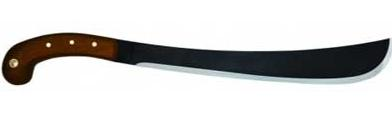MACHETTE: (0, 30, 392, 123)
